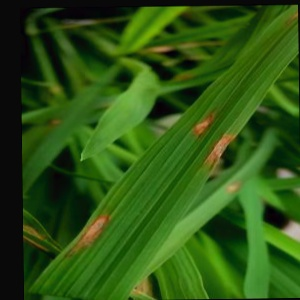Brown_Spot: (41, 203, 127, 258), (198, 130, 243, 172), (172, 100, 223, 137)
